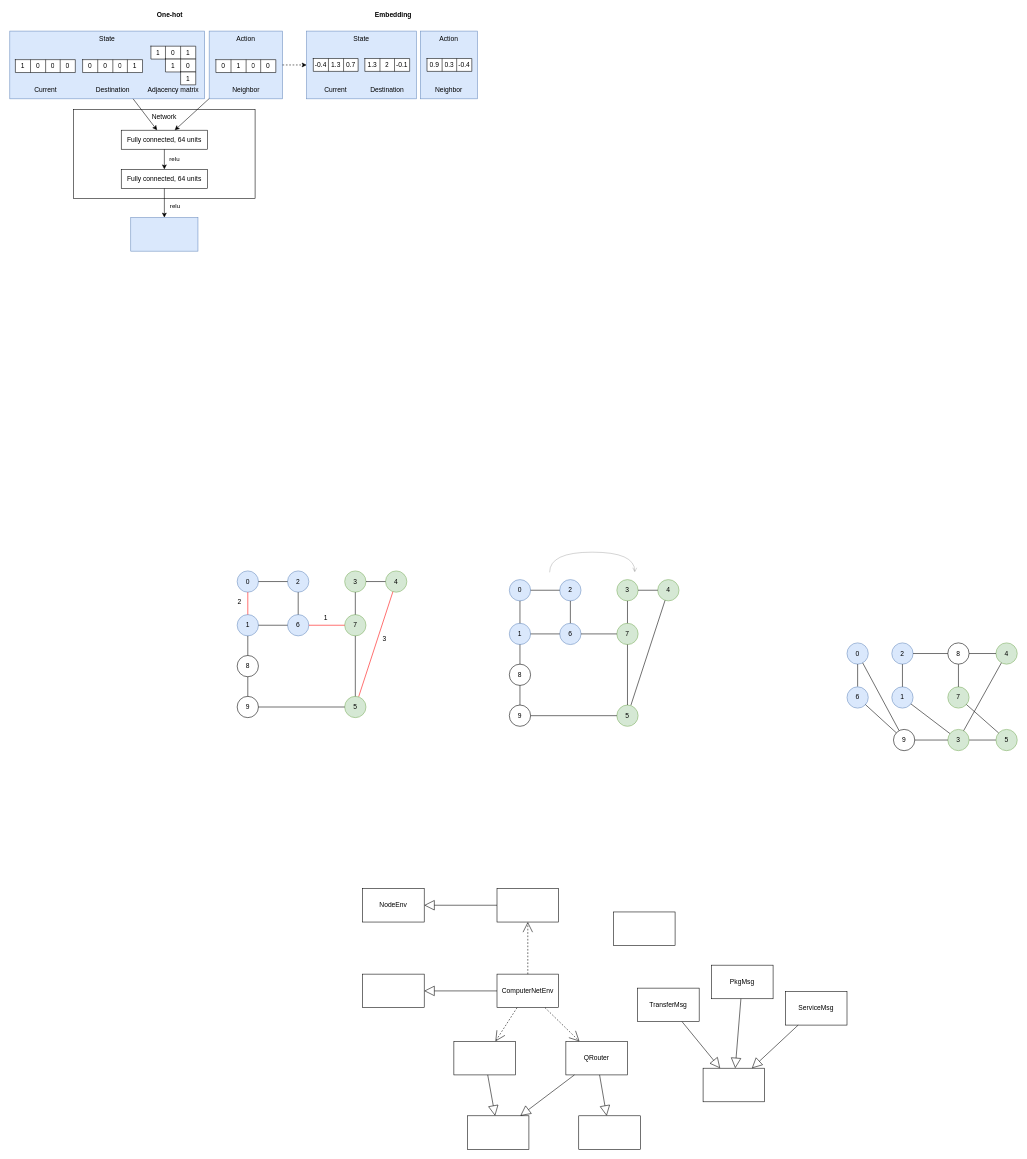
The diagram is 1027 pixels wide and 1159 high, and some of its shapes have lost their labels. Each missing label, with the centre of its shape:
"DelivPeriods" belongs at point 644,928.
"LinkStateRouter" belongs at point 484,1058.
"Message" belongs at point 734,1085.
"MsgHandler" belongs at point 498,1132.
"NetworkEnv" belongs at point 393,991.
"Q-value" belongs at point 164,234.
"RewardAgent" belongs at point 609,1132.
"RouterEnv" belongs at point 527,905.
